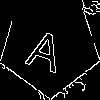A: (24, 20, 69, 74)
